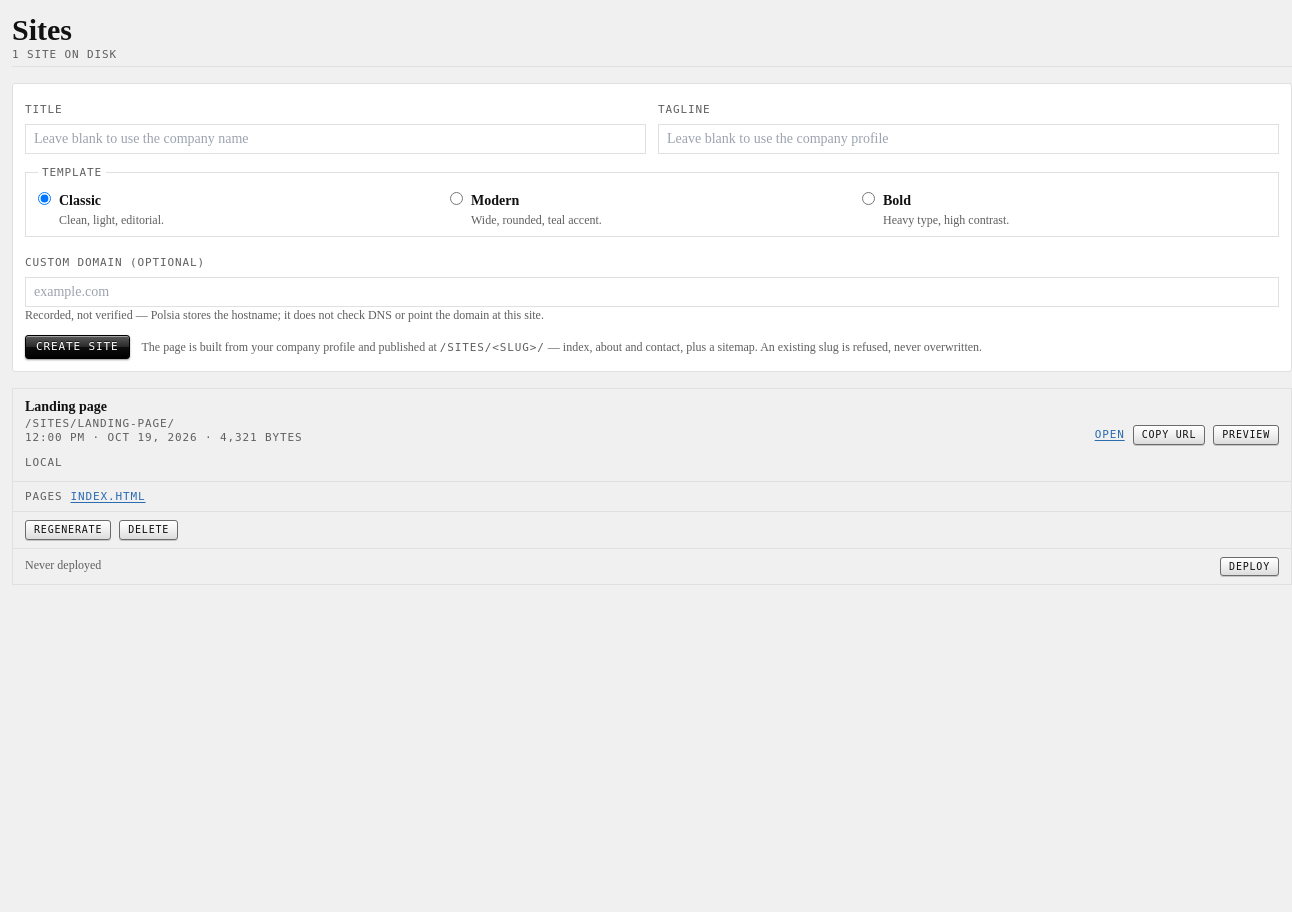
Test: /sites — the two-step deploy › sends the live deploy only on Confirm and reports the Render deploy id
Expected: the list with test id "sites-list" is shown, [12,388,1291,585]
Expected: the text with test id "site-deploy-badge-landing-page" does not show "reading deploy state", [25,557,101,573]
Click the button with test id "site-deploy-button-landing-page" at [1250, 567], box [1220,557,1279,576]
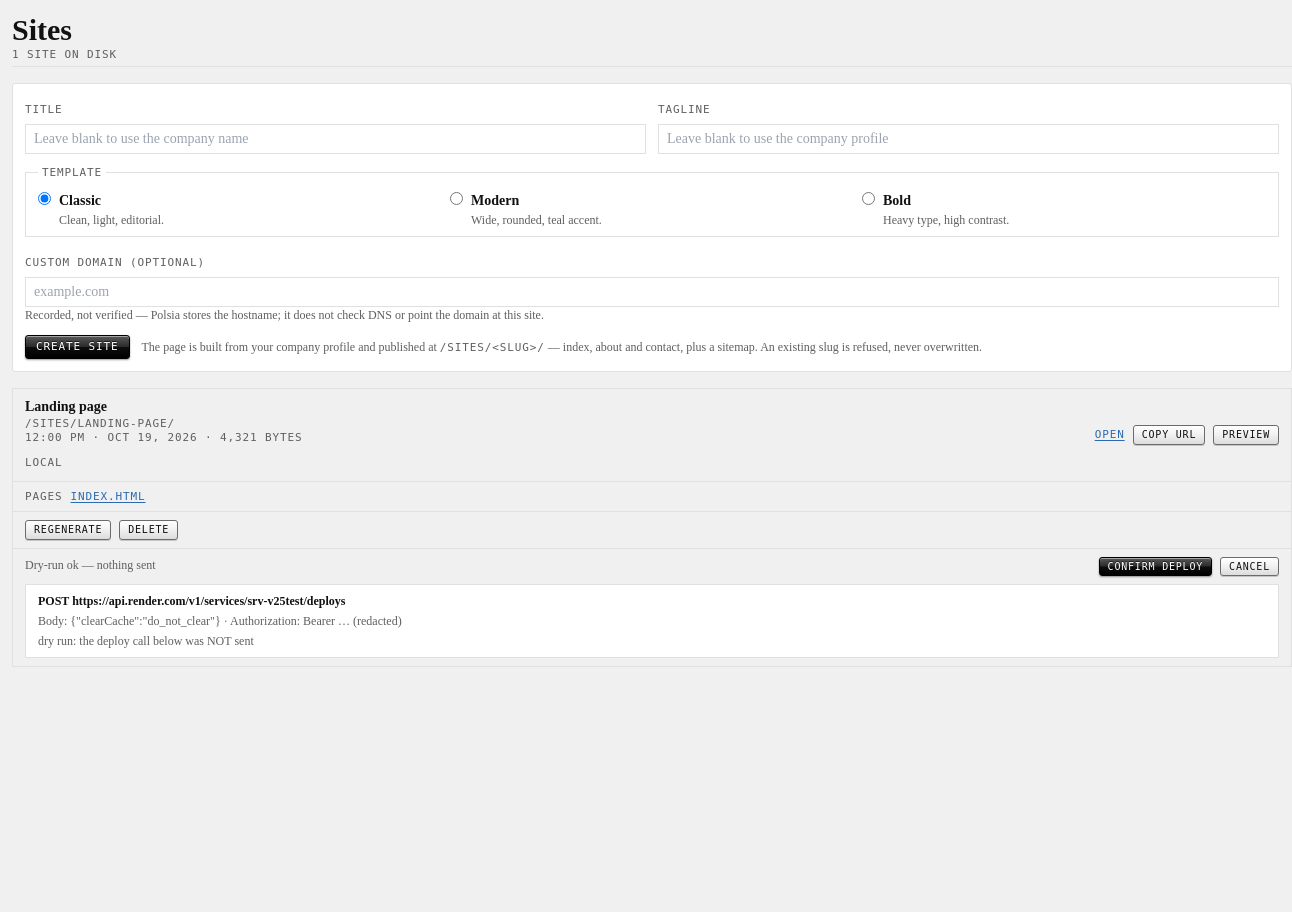
Expected: the element with test id "site-deploy-preview-landing-page" is shown, [25,584,1279,658]
Click the button with aria-label "confirm deploy landing page" at [1155, 567], box [1099,557,1212,576]
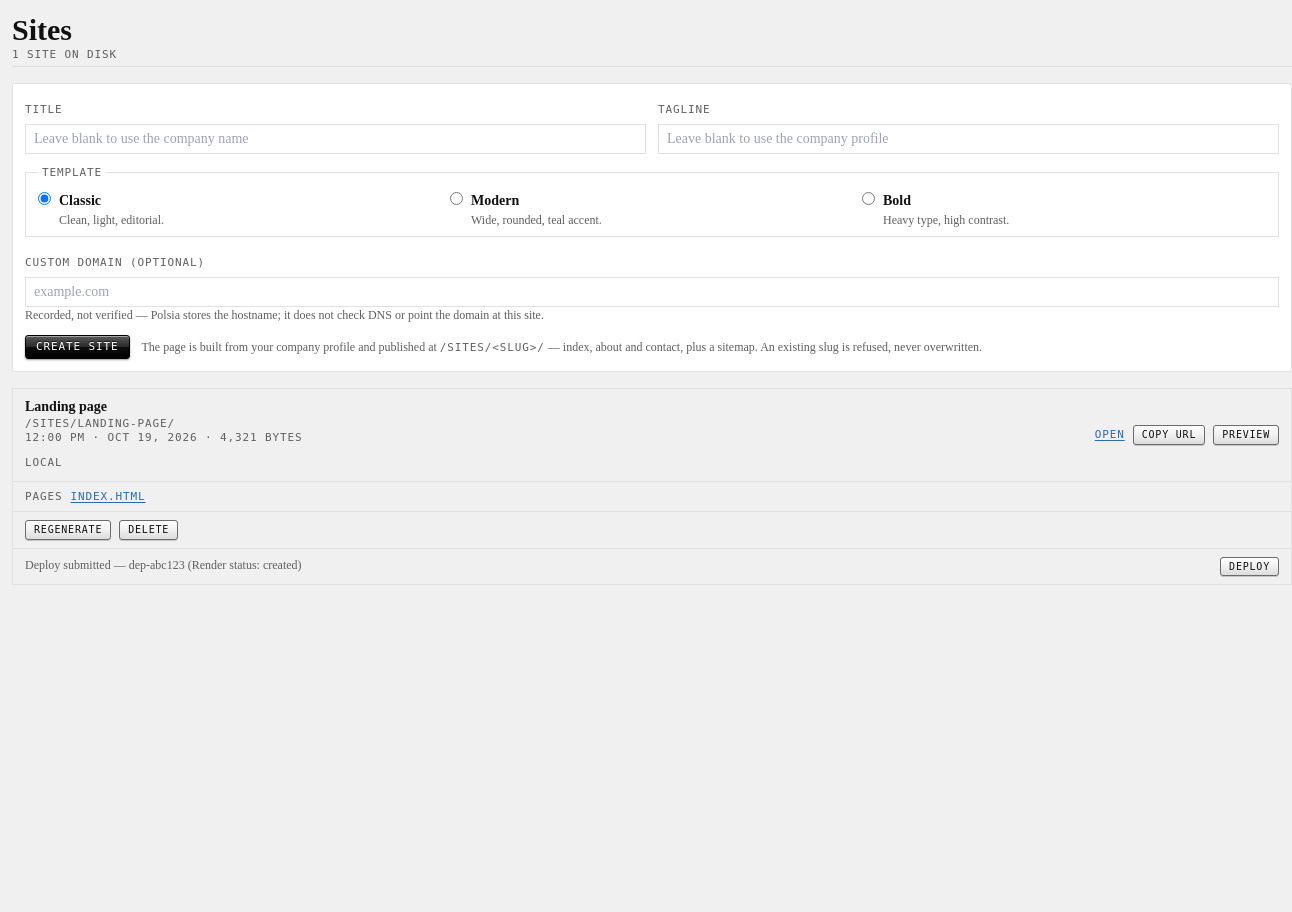
Expected: the text with test id "site-deploy-badge-landing-page" shows "submitted", [25,558,302,572]
Expected: the text with test id "site-deploy-badge-landing-page" shows "dep-abc123", [25,558,302,572]
Expected: the text with test id "site-deploy-badge-landing-page" shows "created", [25,558,302,572]
